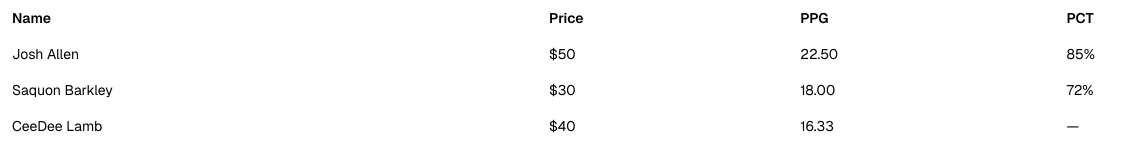
Test: DataTable › sorts ascending on column click
This screenshot has width=1125, height=161.
What coordinates should you click on to do the following:
click the column heading "Price"
I would click on:
 (566, 18)
Its box is [537,0,788,36].
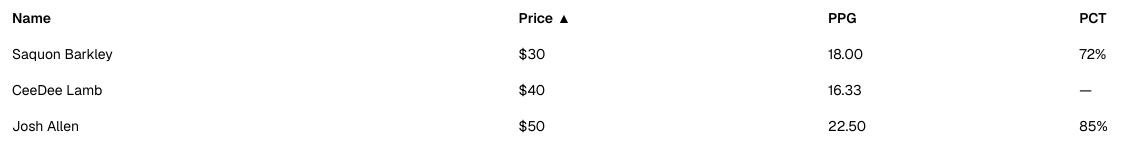
Expected: the text "$30" is shown, [507,36,816,72]
Expected: the text "$40" is shown, [507,72,816,108]
Expected: the text "$50" is shown, [507,108,816,144]
